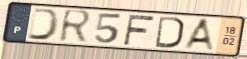5: (93, 13, 124, 45)
A: (181, 17, 217, 53)
D: (26, 7, 62, 42), (154, 15, 186, 50)
F: (121, 14, 157, 47)
R: (57, 7, 94, 45)
